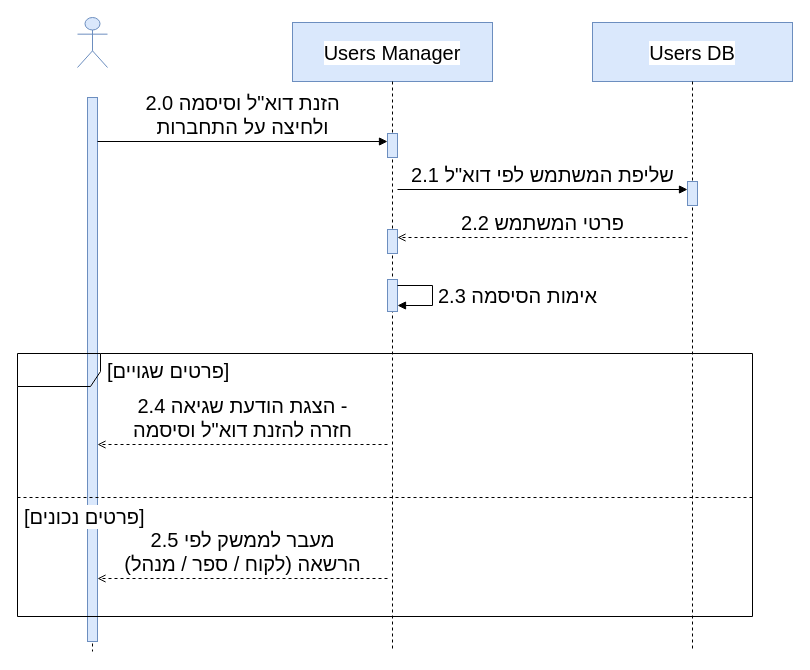
Image size: 810x670. Some labels were removed from this diagram. Here are the shapes that lost their labels. From the top down, the box of each, then its label:
(76, 16, 108, 68): משתמש
(16, 352, 752, 616): alt
